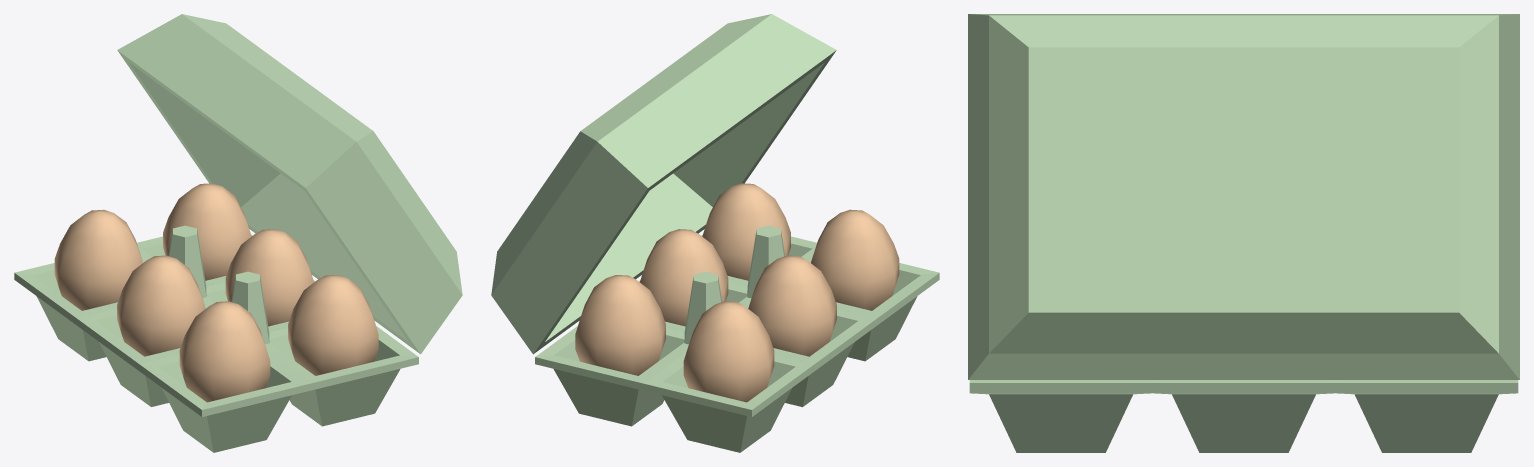
Rendered from EGGS.fbx.
The picture shows the model from 3 angles, left to right: view 1: azimuth 30°, elevation 25°; view 2: azimuth 150°, elevation 25°; view 3: azimuth 270°, elevation 25°; orthographic projection. The views are drawn at different scales.
Parts seen in each view (by area): view 1: pCube7, pCylinder3, pSphere4, pSphere2, pSphere6, pSphere5, pSphere1, pSphere3; view 2: pCube7, pCylinder3, pSphere6, pSphere3, pSphere4, pSphere5, pSphere1, pSphere2; view 3: pCube7, pCylinder3.
Part boxes in pixels (x1,y1,x2,y2): pCube7: [117, 14, 462, 354]; pCylinder3: [14, 225, 418, 452]; pSphere4: [179, 301, 270, 402]; pSphere2: [288, 275, 378, 375]; pSphere6: [54, 209, 142, 310]; pSphere5: [117, 255, 205, 356]; pSphere1: [225, 229, 313, 326]; pSphere3: [163, 183, 251, 280]; pCube7: [491, 14, 836, 354]; pCylinder3: [535, 225, 939, 452]; pSphere6: [683, 301, 774, 402]; pSphere3: [575, 275, 665, 375]; pSphere4: [811, 209, 899, 310]; pSphere5: [748, 255, 836, 356]; pSphere1: [640, 229, 728, 326]; pSphere2: [702, 183, 790, 280]; pCube7: [968, 14, 1519, 379]; pCylinder3: [969, 380, 1518, 452].
Size of the model in its own units: 4.3 by 4.27 by 5.11.
Materials: 2 (2 with a texture image).
